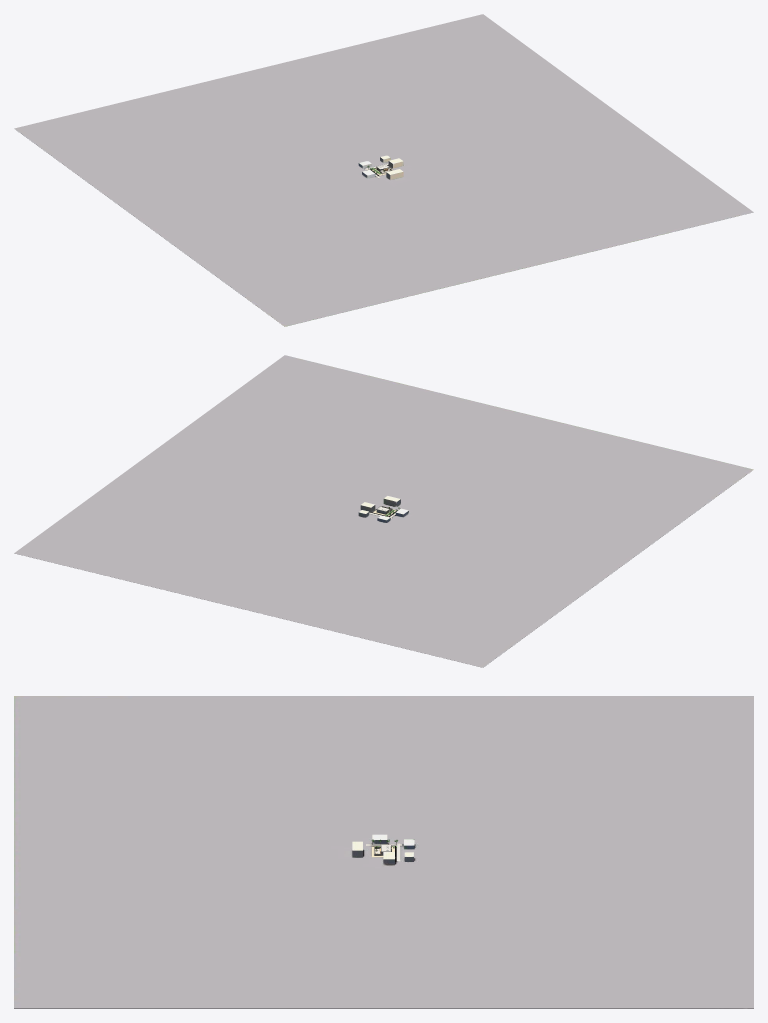
Rendered from courtyard-studio-los-angeles.summer-noon.glb.
The picture shows the model from 3 angles, top to bottom: view 1: azimuth 30°, elevation 25°; view 2: azimuth 150°, elevation 25°; view 3: azimuth 270°, elevation 25°; orthographic projection. The views are drawn at different scales.
Parts seen in each view (by area): view 1: Street and neighbours; view 2: Street and neighbours; view 3: Street and neighbours.
Boxes of the visible parts, x1,y1,x2,y2 form: Street and neighbours: (14,14,753,326); Street and neighbours: (14,355,753,667); Street and neighbours: (14,696,753,1008).
Size of the model in its own units: 700 by 7.59 by 700.
12 materials, 9 textured.
